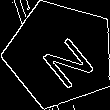N_NW: (27, 22, 93, 87)
